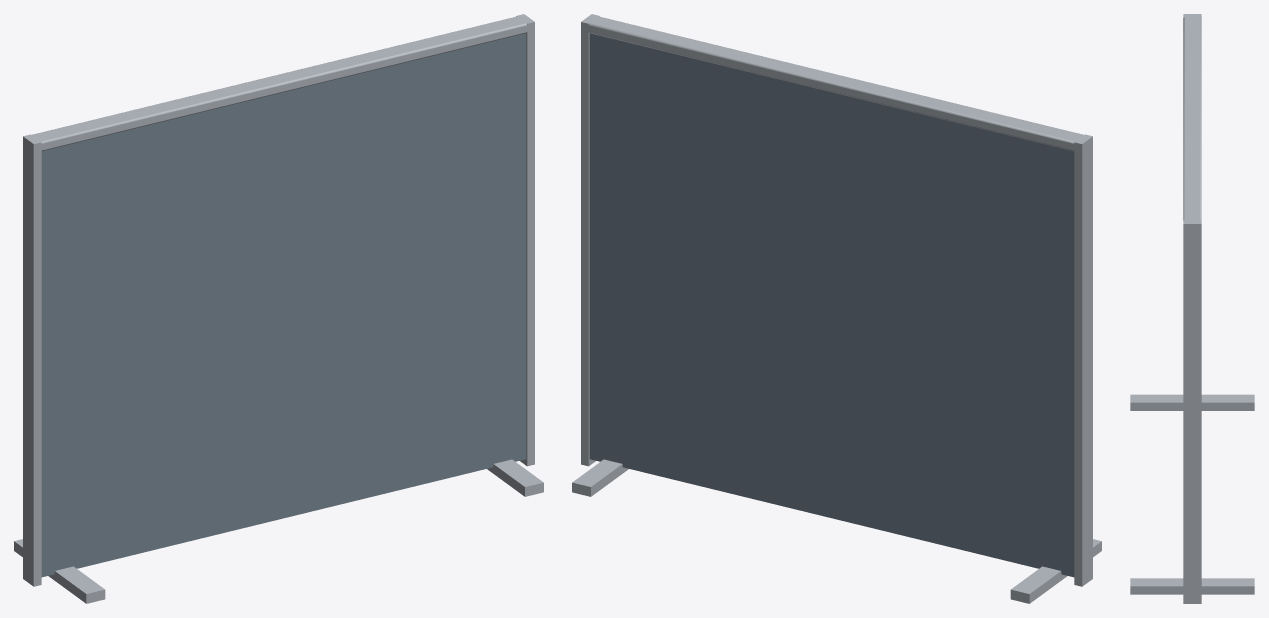
The model's file is cubicle_partition.fbx.
3 views of the same model, side by side, from view 1: azimuth 30°, elevation 25°; view 2: azimuth 150°, elevation 25°; view 3: azimuth 270°, elevation 25° (orthographic). The views are drawn at different scales.
Parts seen in each view (by area): view 1: Partition; view 2: Partition; view 3: Partition.
Boxes of the visible parts, box(x1,y1,x2,y2) form: Partition: box(14, 14, 543, 603); Partition: box(572, 14, 1101, 603); Partition: box(1130, 14, 1254, 603).
Bounding box in the file's own units: 1.6 × 1.35 × 0.4.
